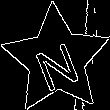N_N: (29, 29, 83, 90)
